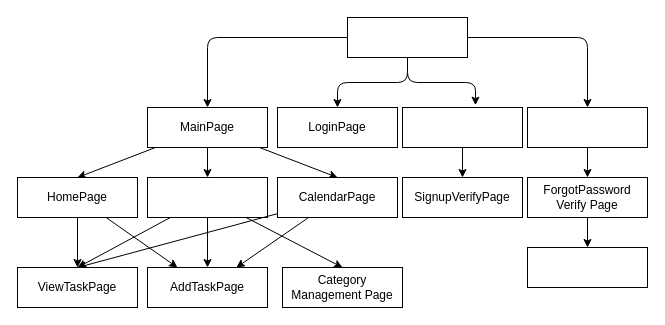
Some shapes in this 665 by 325 pixel diagram are drawn without their labels. Each missing label, with the centre of its shape:
"ForgotPasswordPage" belongs at (x=587, y=127).
"ListPage" belongs at (x=207, y=197).
"Reset Password Page" belongs at (x=587, y=267).
"SignupPage" belongs at (x=462, y=127).
"SplashPage" belongs at (x=407, y=37).
